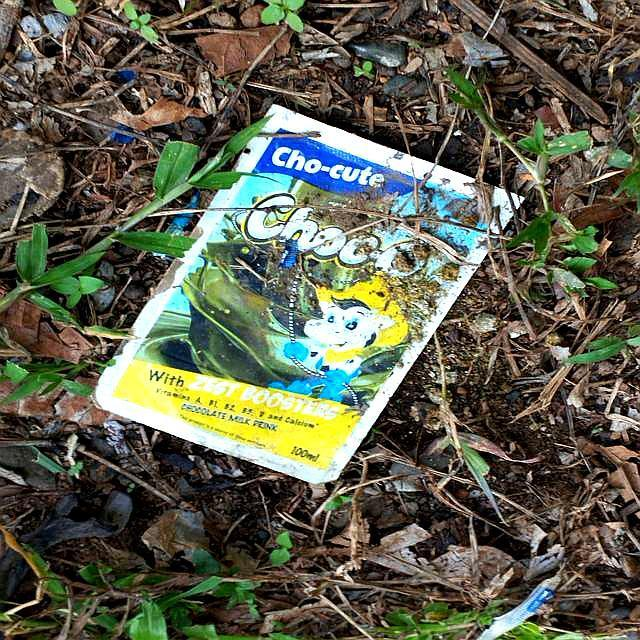Non-biodegradable: (93, 103, 529, 486)
